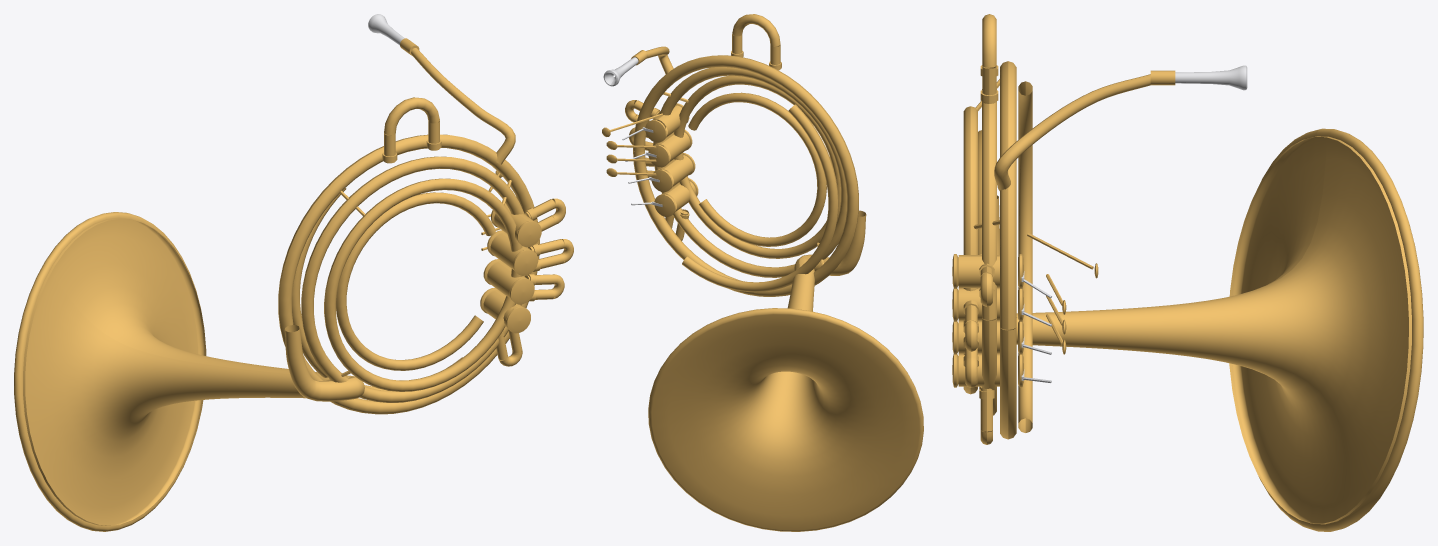
Rendered from horn.glb.
The picture shows the model from 3 angles, left to right: view 1: azimuth 30°, elevation 25°; view 2: azimuth 150°, elevation 25°; view 3: azimuth 270°, elevation 25°; orthographic projection. The views are drawn at different scales.
Visible parts, largest first — view 1: horn_brass; view 2: horn_brass, horn_silver; view 3: horn_brass, horn_silver.
Part boxes in pixels (x1,y1,x2,y2): horn_brass: [14, 38, 573, 531]; horn_brass: [602, 14, 923, 531]; horn_silver: [603, 57, 662, 206]; horn_brass: [952, 14, 1423, 531]; horn_silver: [1021, 65, 1247, 382].
Size of the model in its own units: 0.5057 by 0.5091 by 0.3654.
